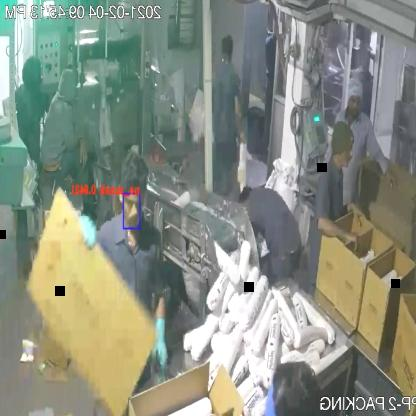glove: (141, 296, 178, 383)
no_glove: (357, 151, 407, 193), (309, 218, 365, 248), (337, 192, 373, 223), (230, 95, 245, 157)
